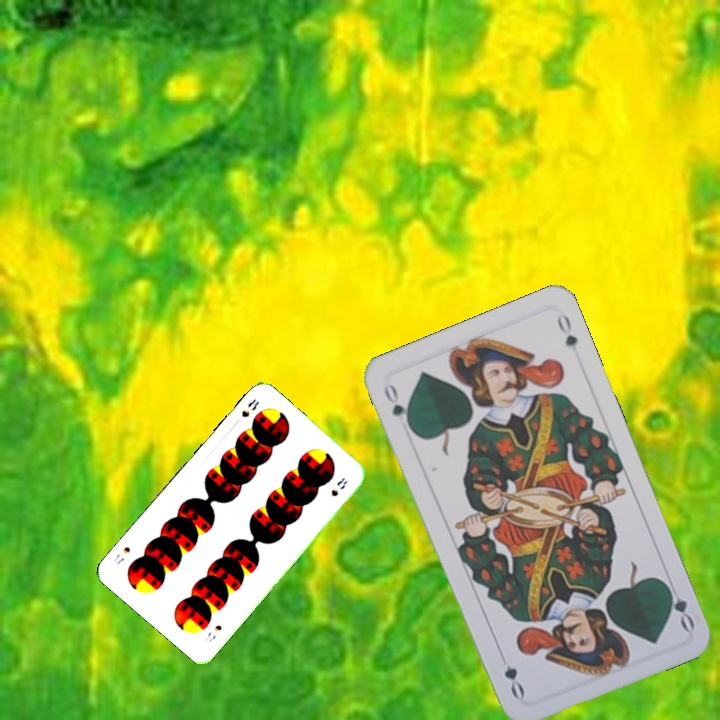GO: (660, 576, 698, 634), (379, 378, 415, 433)
S8: (237, 395, 262, 420), (201, 621, 224, 645)
